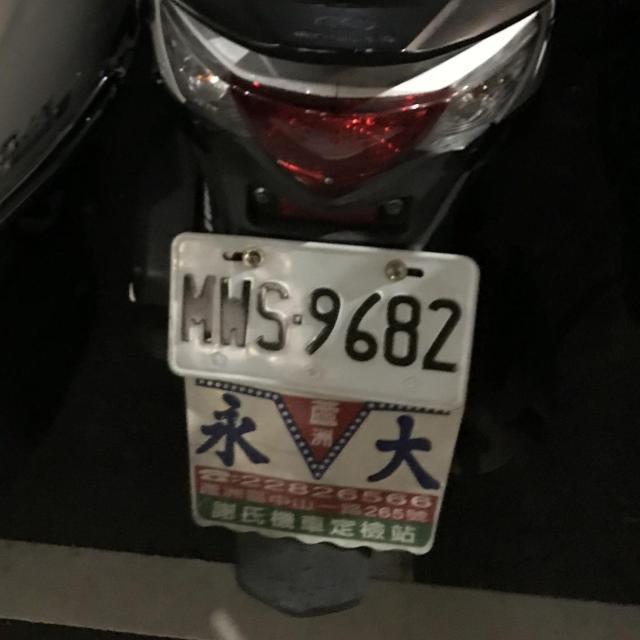W: (153, 216, 491, 414)
